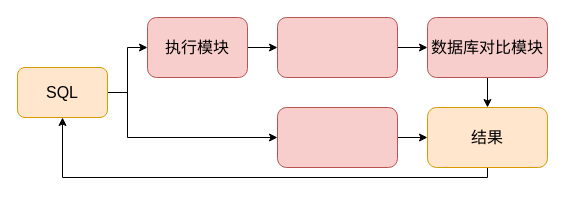
Image size: 565x203. Some labels were removed from this diagram. The box of each missing label's shape, as (x1, y1, x2, y2) in pixels:
数据库探测模块: (276, 16, 398, 78)
特殊SQL判断模块: (276, 106, 398, 168)
